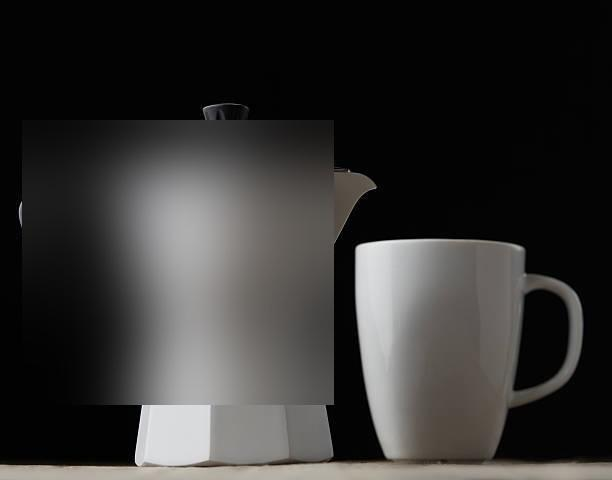cup-handle: (354, 236, 585, 466)
